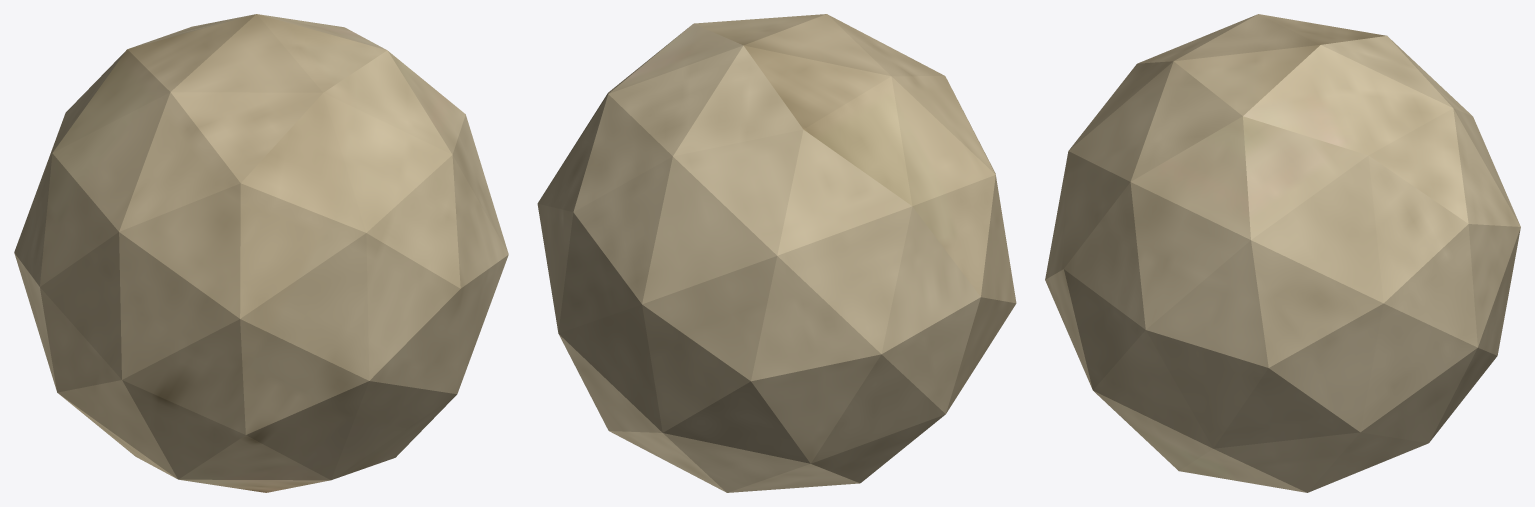
Rendered from trashball.glb.
The picture shows the model from 3 angles, left to right: view 1: azimuth 30°, elevation 25°; view 2: azimuth 150°, elevation 25°; view 3: azimuth 270°, elevation 25°; orthographic projection. The views are drawn at different scales.
Visible parts, largest first — view 1: trash-col.001; view 2: trash-col.001; view 3: trash-col.001.
Part boxes in pixels (x1,y1,x2,y2): trash-col.001: [14, 14, 508, 492]; trash-col.001: [537, 14, 1016, 492]; trash-col.001: [1045, 14, 1520, 492].
Bounding box in the file's own units: 0.1326 × 0.1312 × 0.1312.
Materials: 1 (1 with a texture image).
